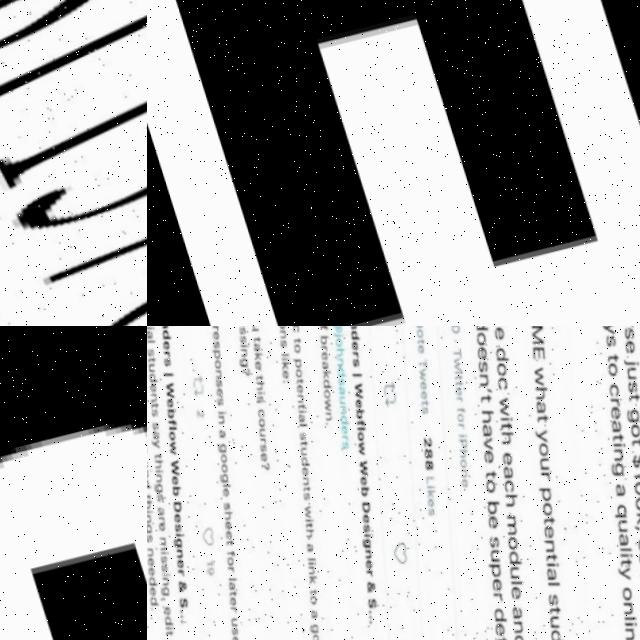0: (623, 477, 640, 498), (625, 494, 640, 512), (445, 326, 458, 335)
1: (0, 0, 147, 200), (0, 0, 147, 128), (623, 465, 640, 481), (197, 556, 208, 566)
2: (416, 434, 430, 448), (188, 405, 202, 419)
3: (60, 204, 147, 326)
5: (0, 21, 147, 257)
6: (27, 147, 147, 326)
7: (0, 83, 147, 314)
8: (0, 0, 147, 84), (416, 456, 431, 472), (416, 445, 430, 461)
9: (197, 564, 210, 576)
E: (147, 0, 640, 326)
G: (0, 326, 147, 640)
